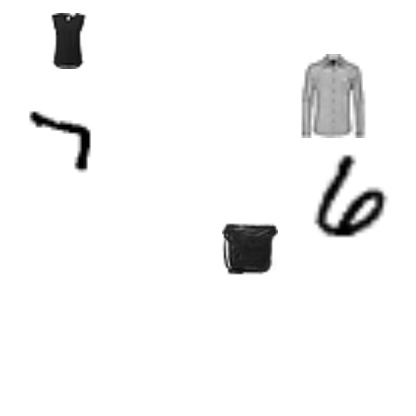6: (291, 148, 403, 260)
7: (24, 94, 108, 178)
Bag: (222, 220, 278, 276)
Shirt: (290, 54, 374, 138), (40, 13, 96, 69)
